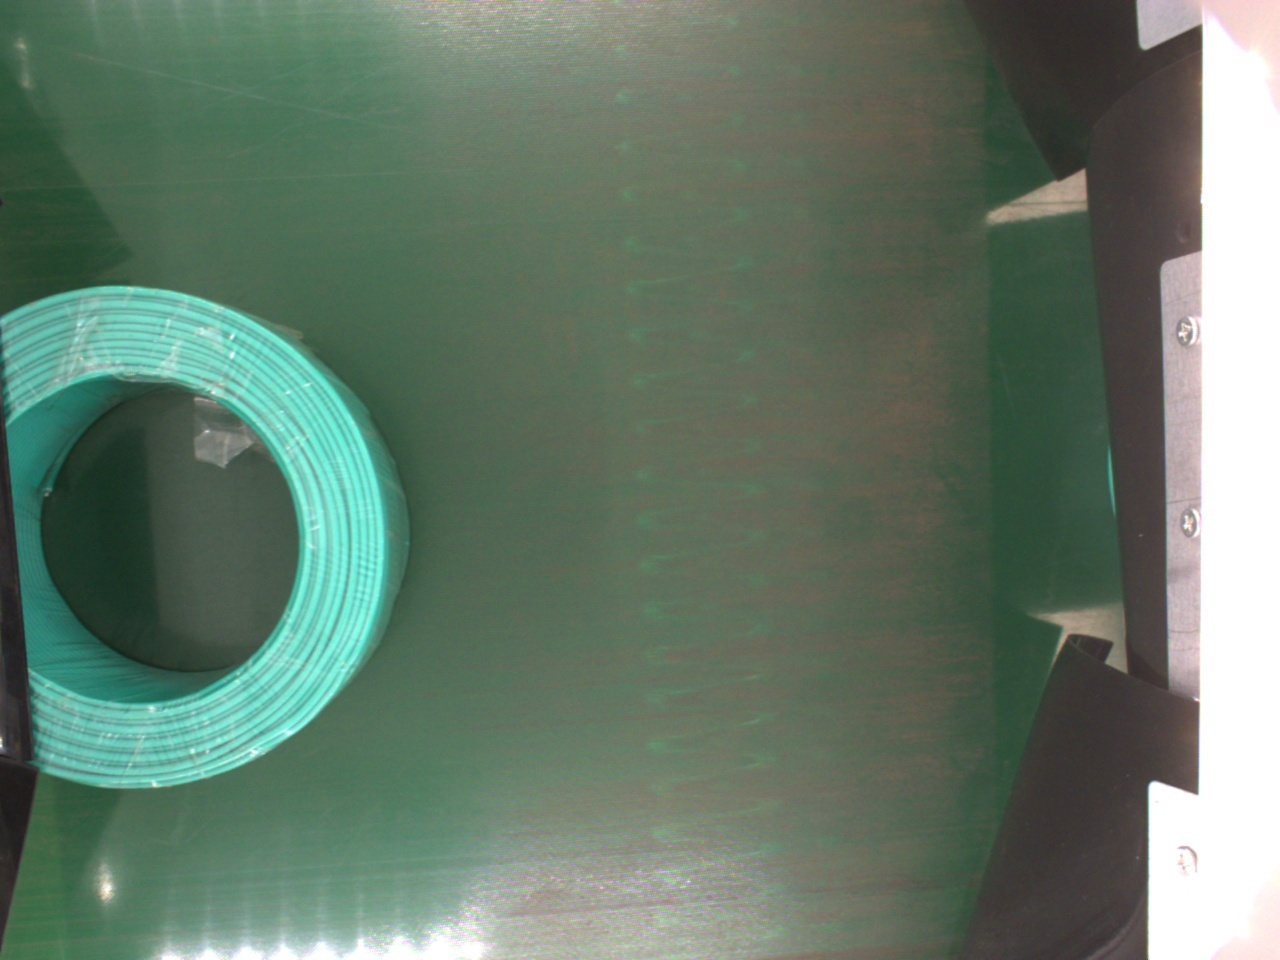green: (5, 285, 411, 794)
